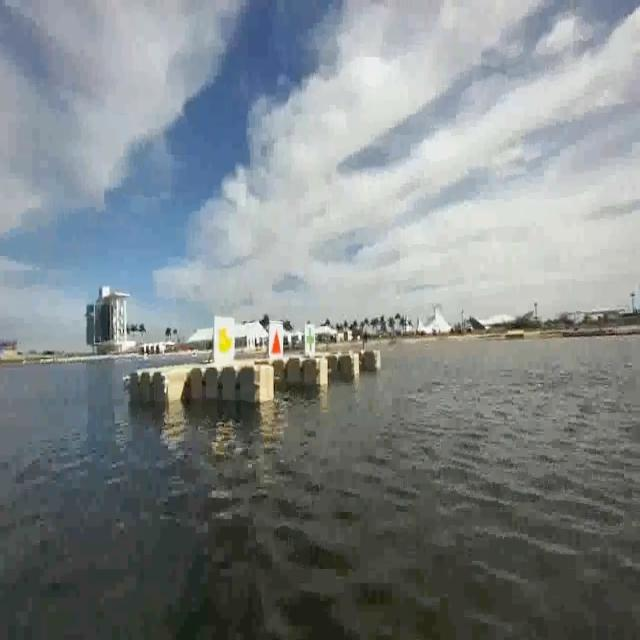blue-cross: (304, 322, 317, 358)
red-dot: (268, 318, 284, 359)
yellow-duck: (217, 327, 232, 353)
